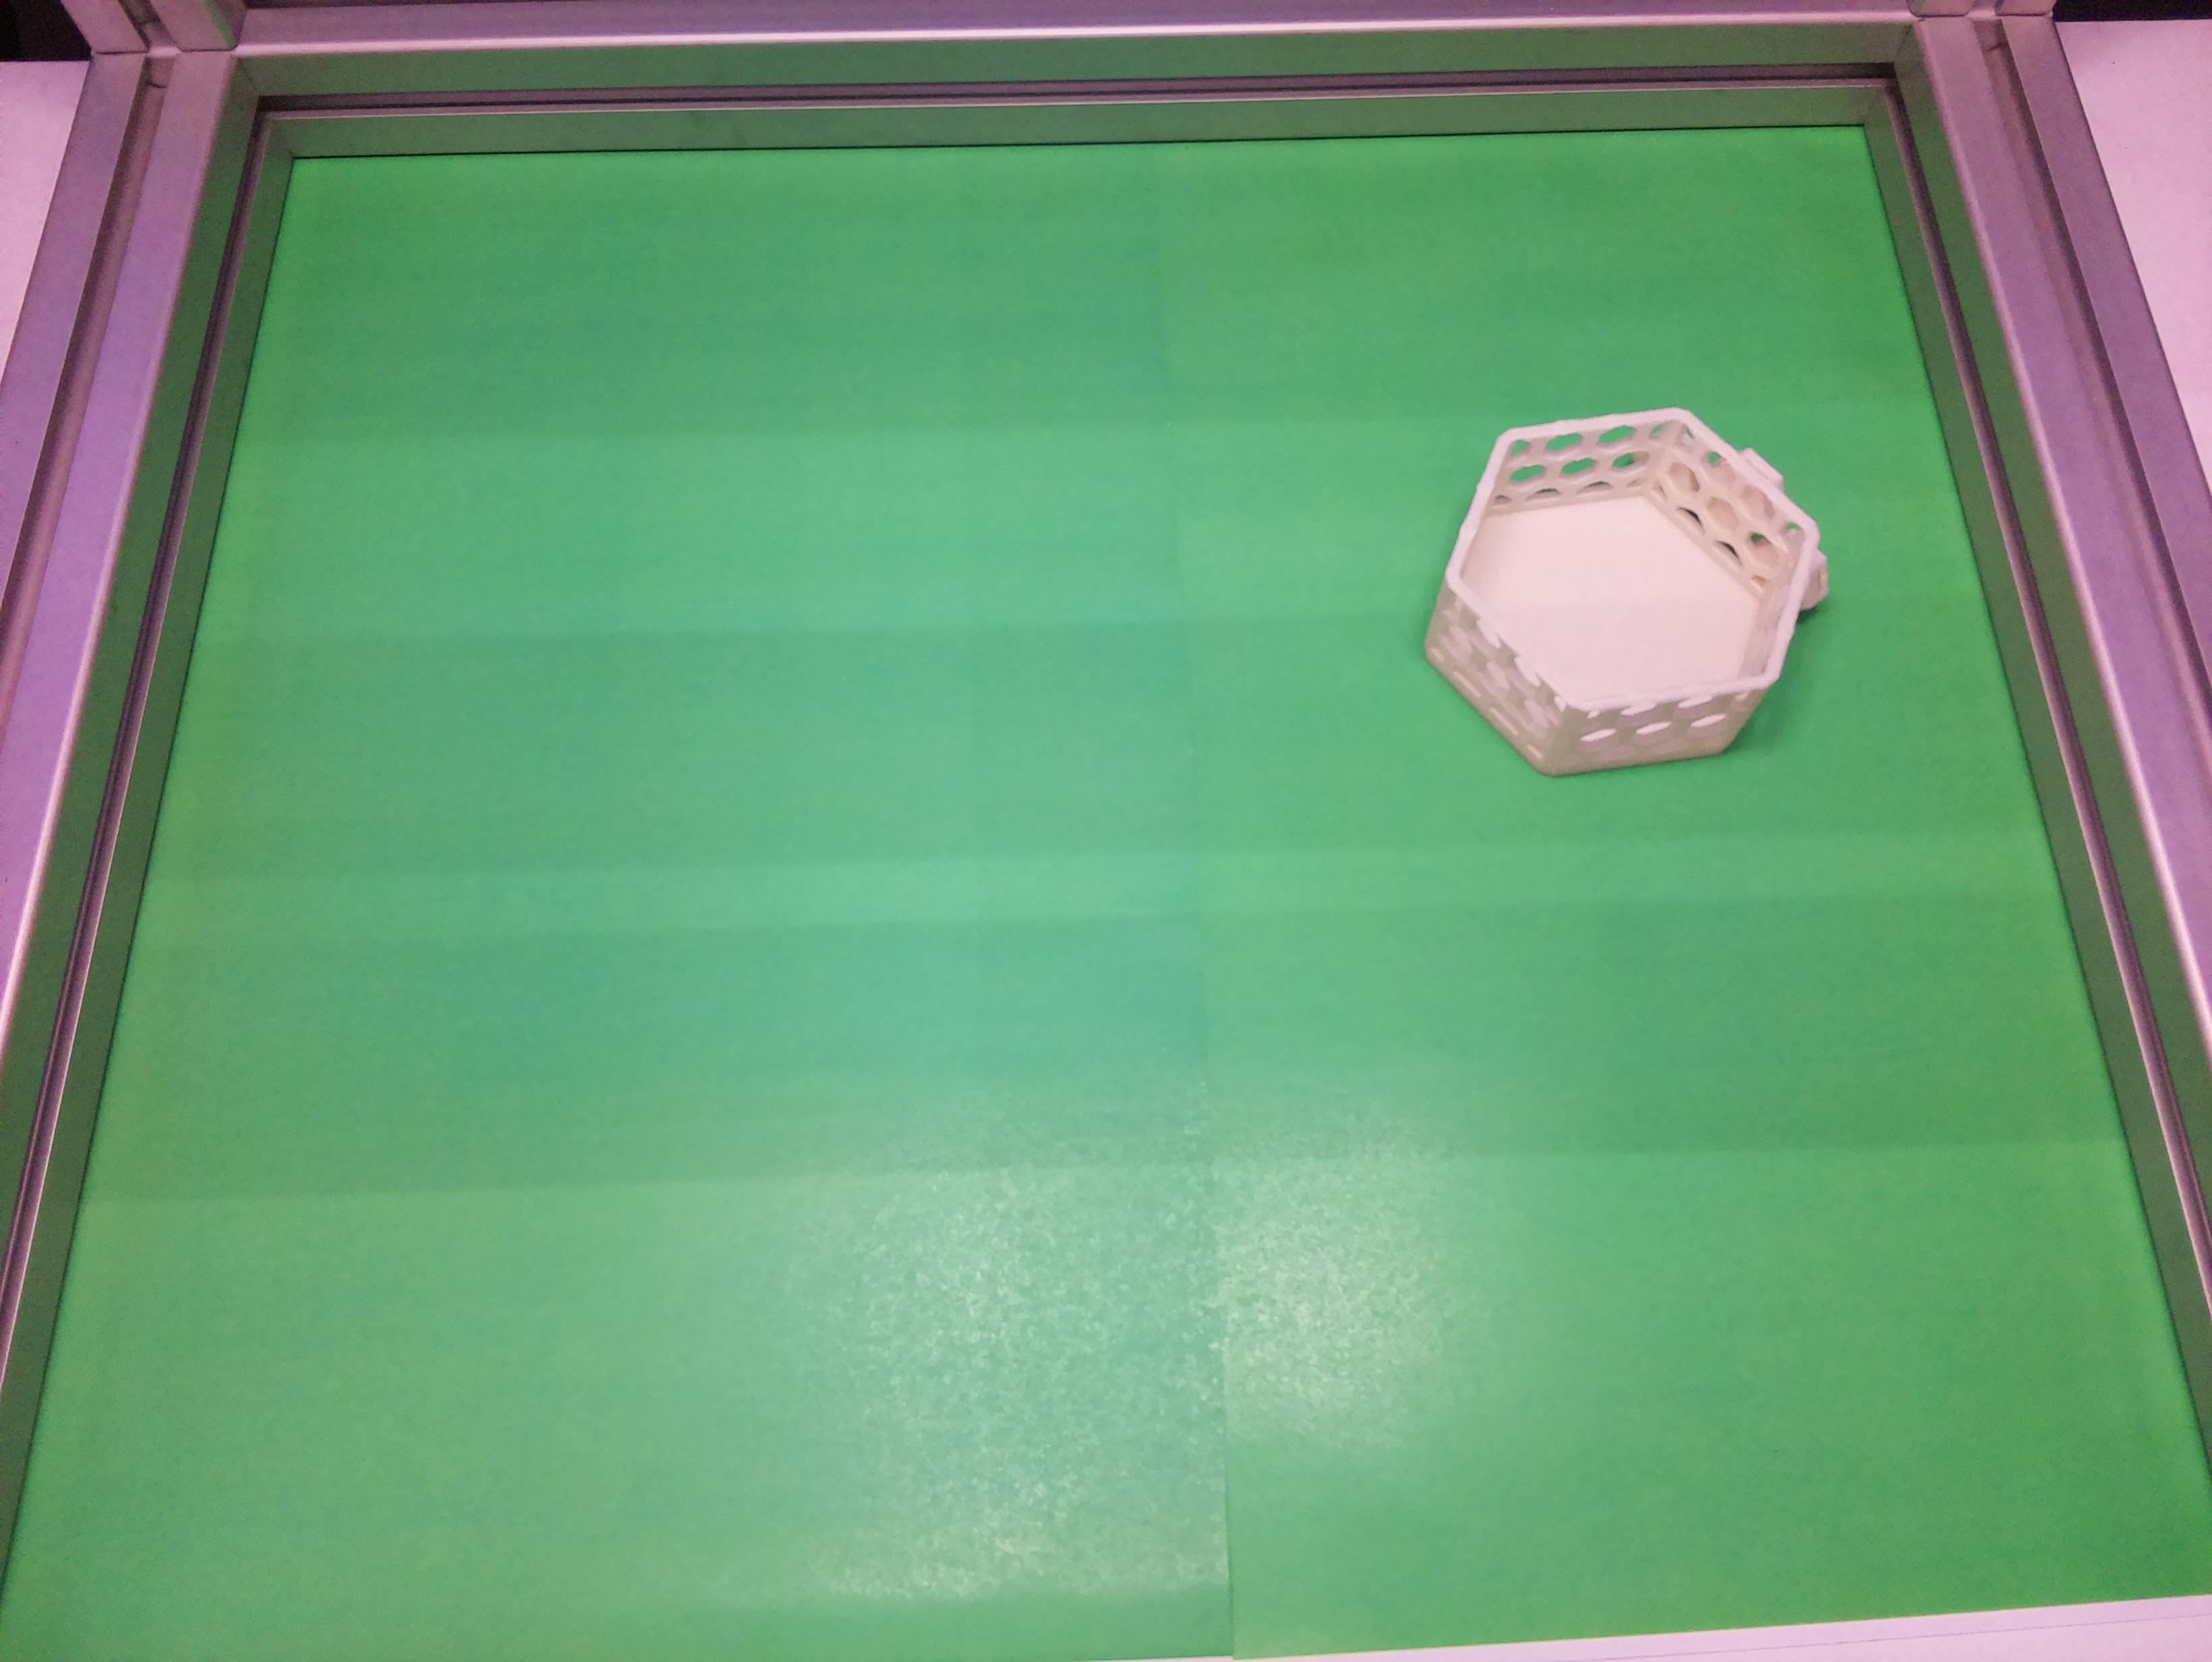bottle_holder: (1364, 335, 1873, 852)
